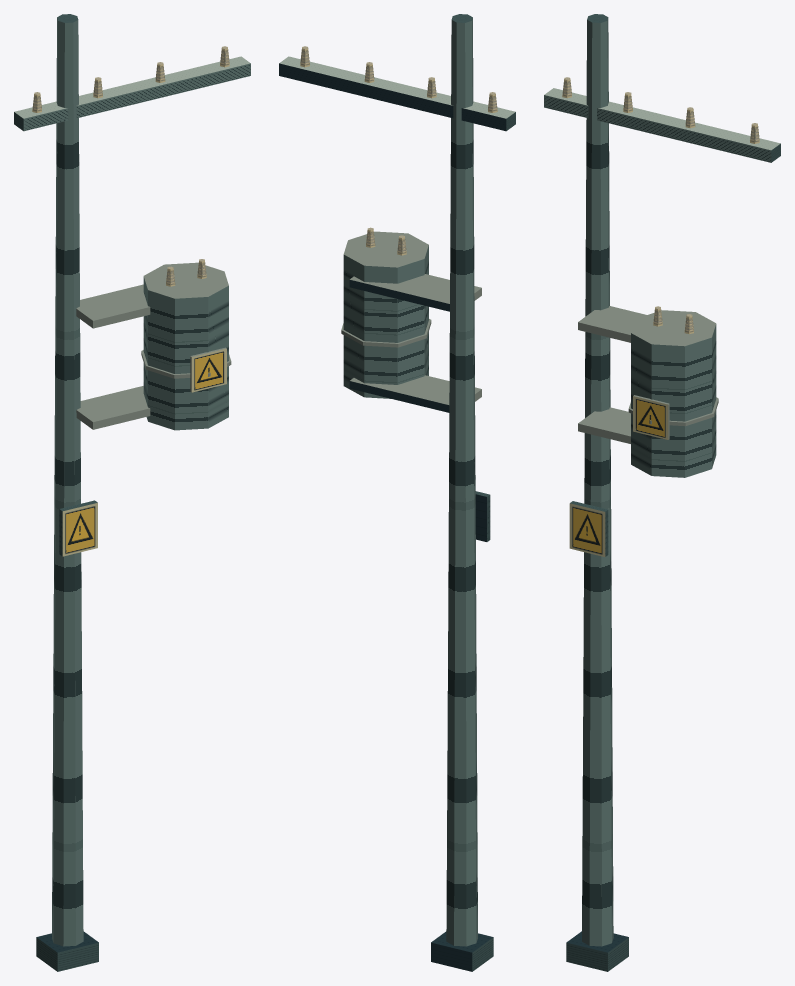
Rendered from transformador_poste_simple.glb.
3 views of the same model, side by side, from view 1: azimuth 30°, elevation 25°; view 2: azimuth 150°, elevation 25°; view 3: azimuth 330°, elevation 25° (orthographic).
Parts seen in each view (by area): view 1: FH_PROP; view 2: FH_PROP; view 3: FH_PROP.
Boxes of the visible parts, box(x1,y1,x2,y2) form: FH_PROP: box(14, 14, 250, 971); FH_PROP: box(279, 14, 515, 971); FH_PROP: box(544, 14, 780, 971).
Bounding box in the file's own units: 1.5 × 5.94 × 0.6327.
1 material, 1 textured.
